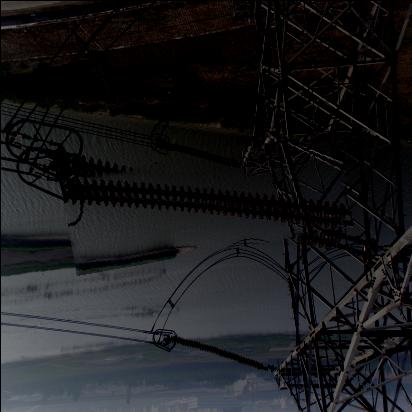insulator: (63, 142, 351, 264), (170, 335, 268, 371), (165, 141, 241, 173)
